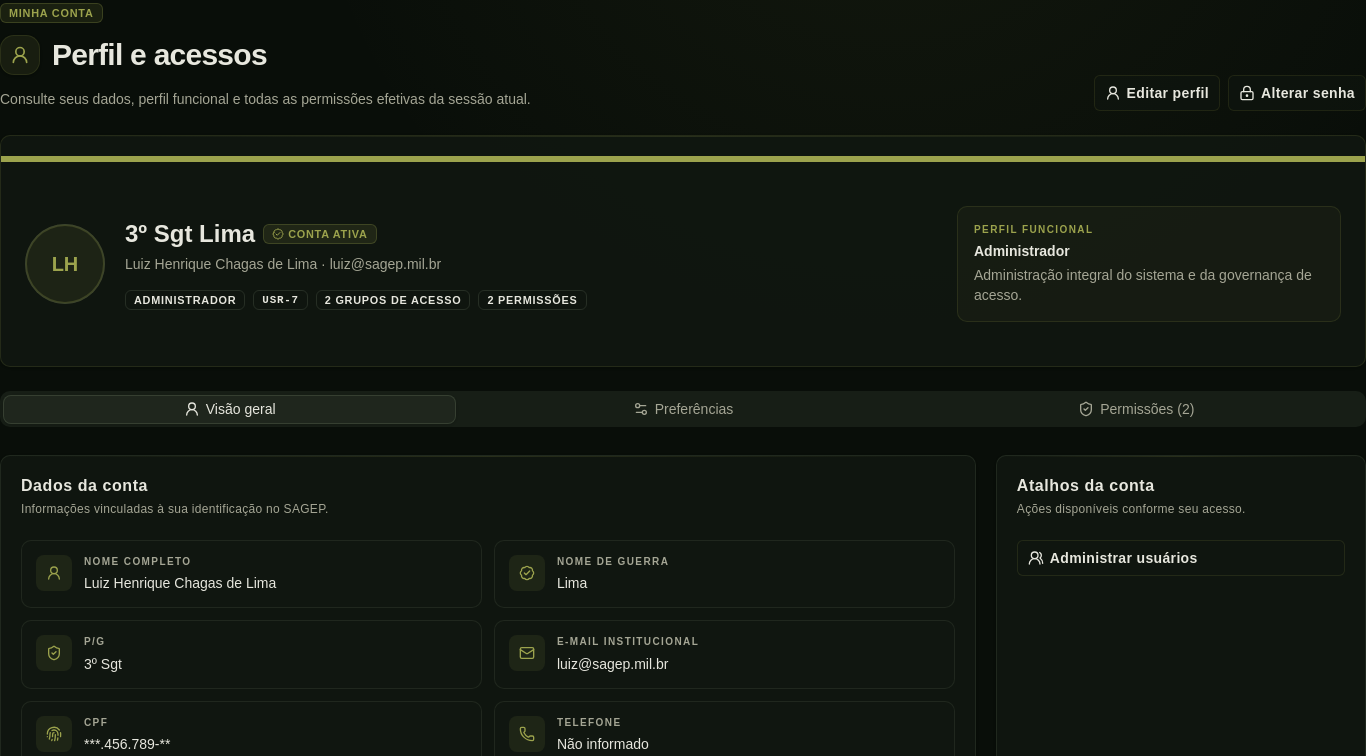
Test: UserProfilePage › exposes personal preferences without allowing role editing
Click the tab "Preferências" at (683, 409), box [456,395,910,424]
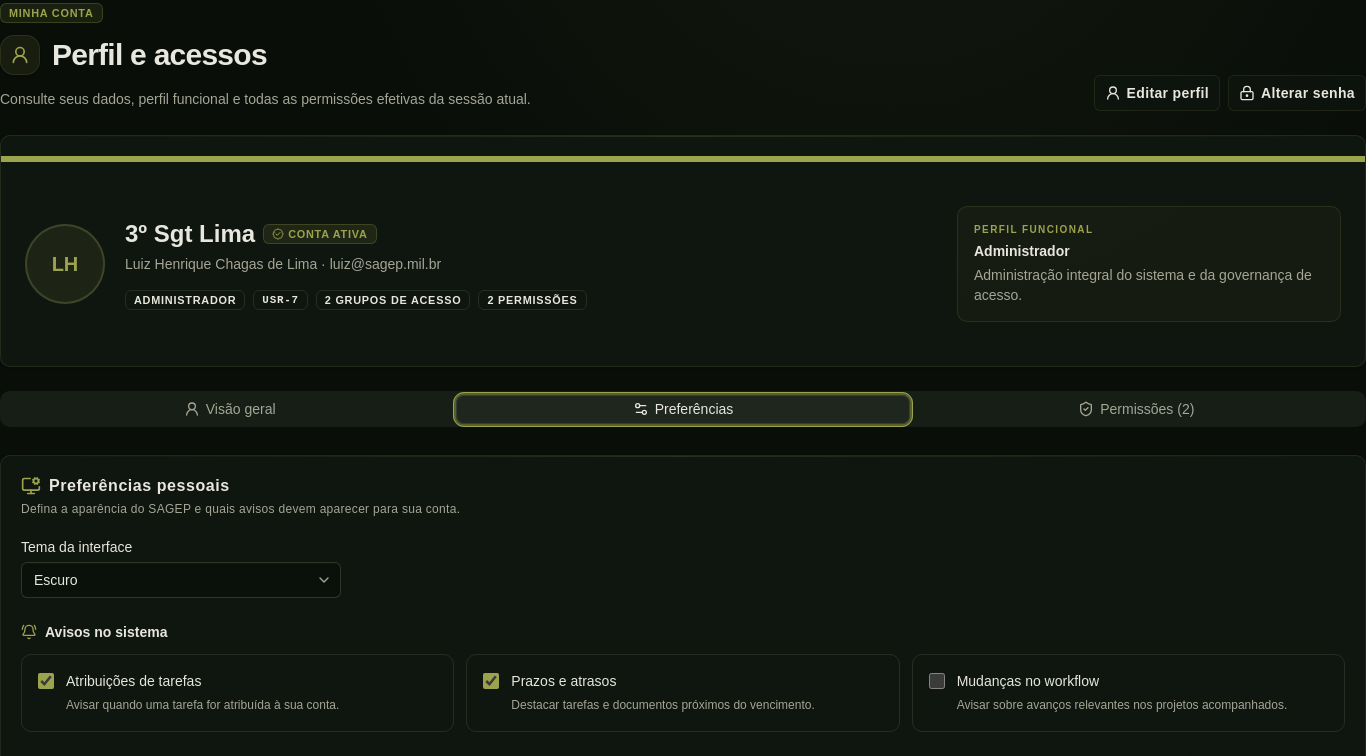
Check: the dropdown named "Tema da interface" is shown, box [21,562,341,598]
Check: the checkbox labelled "Atribuições de tarefas" is checked, box [38,673,54,689]
Check: the checkbox labelled "Mudanças no workflow" is not checked, box [929,673,945,689]
Click the button "Editar perfil" at (1157, 93), box [1094,75,1220,111]
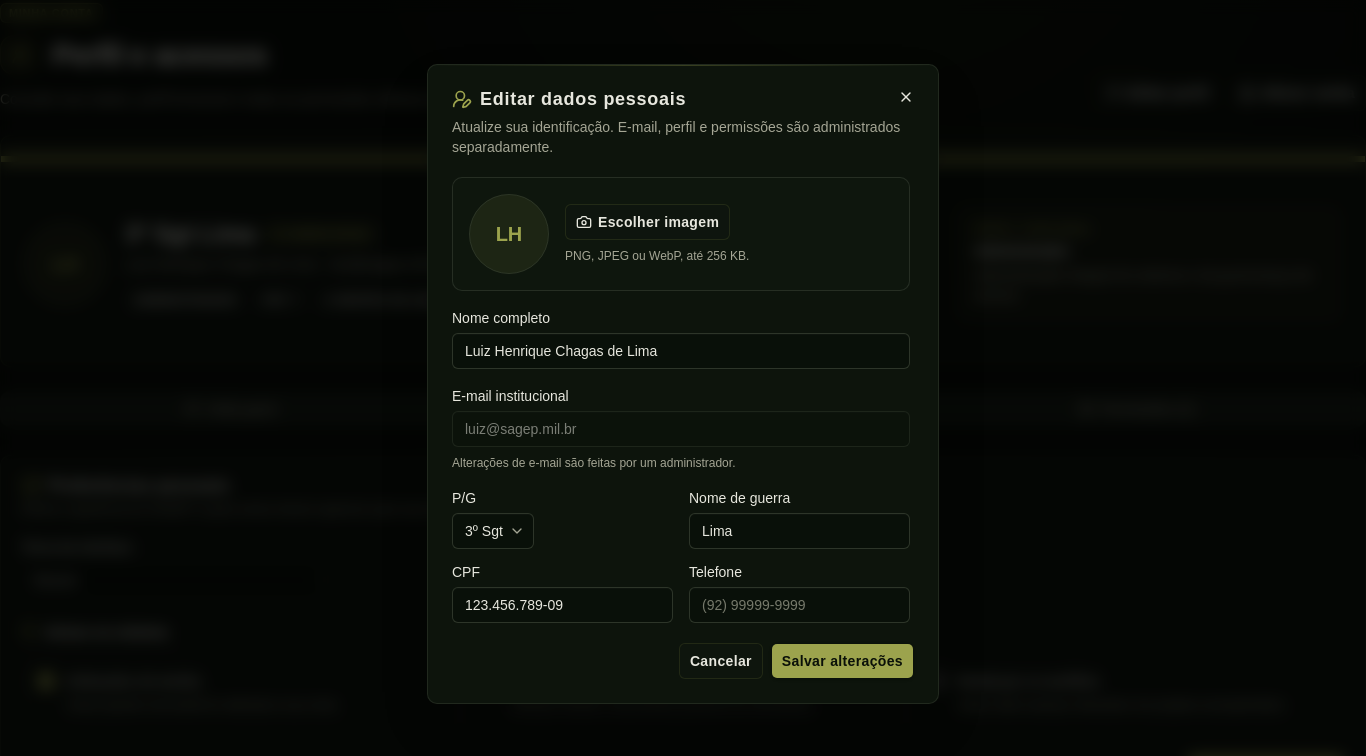
Check: the field labelled "E-mail institucional" is disabled, box [452,411,910,447]
Check: the dropdown named "P/G" is shown, box [452,513,534,549]
Check: the field labelled "Nome de guerra" holds "Lima", box [689,513,910,549]
